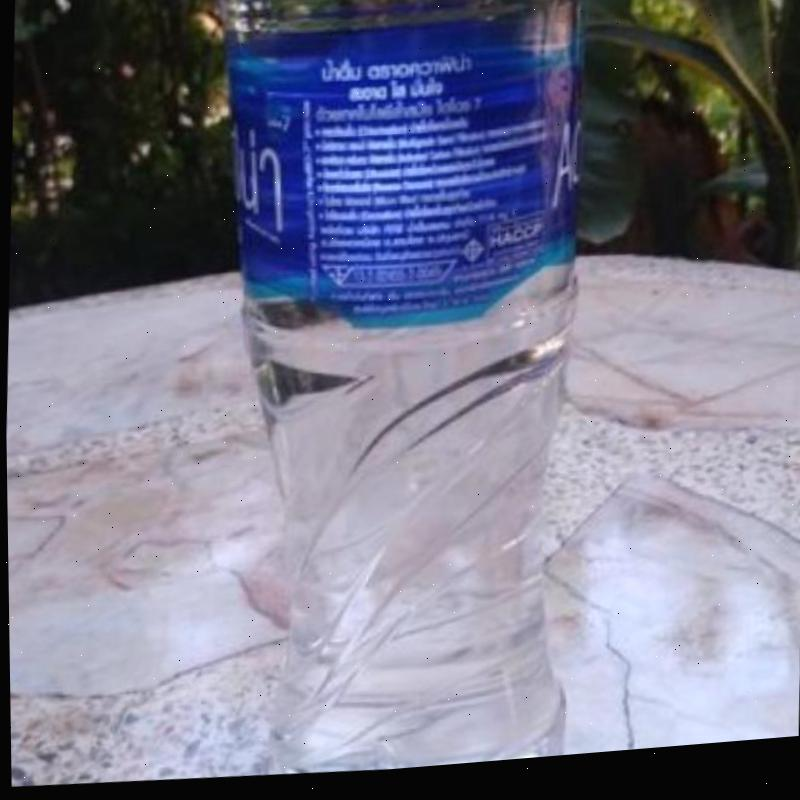botella: (186, 0, 588, 788)
